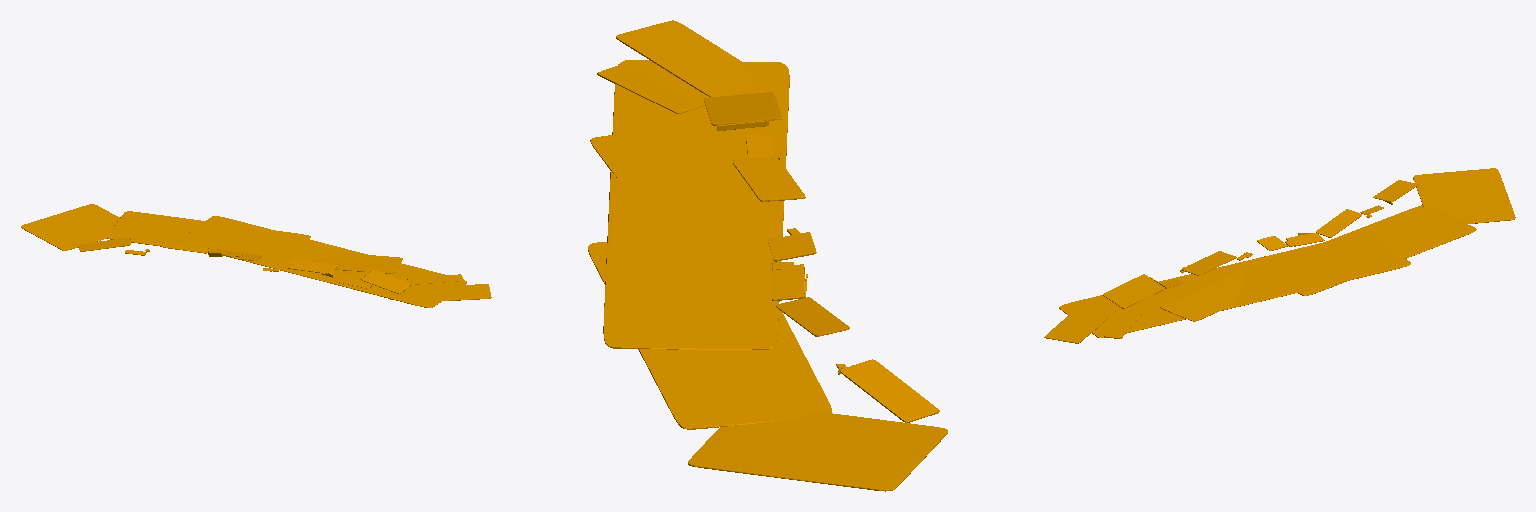
URDF robot description (scene):
<?xml version='1.0' encoding='utf-8'?>
<robot name="scene"><link name="scene_link"><visual><origin xyz="0.000000 0.000000 0.000000" rpy="0.000000 -0.000000 0.000000" /><geometry><mesh filename="part_000.obj" /></geometry></visual><collision><origin xyz="0.000000 0.000000 0.000000" rpy="0.000000 -0.000000 0.000000" /><geometry><mesh filename="part_000.obj" /></geometry></collision><visual><origin xyz="0.000000 0.000000 0.000000" rpy="0.000000 -0.000000 0.000000" /><geometry><mesh filename="part_001.obj" /></geometry></visual><collision><origin xyz="0.000000 0.000000 0.000000" rpy="0.000000 -0.000000 0.000000" /><geometry><mesh filename="part_001.obj" /></geometry></collision><visual><origin xyz="0.000000 0.000000 0.000000" rpy="0.000000 -0.000000 0.000000" /><geometry><mesh filename="part_002.obj" /></geometry></visual><collision><origin xyz="0.000000 0.000000 0.000000" rpy="0.000000 -0.000000 0.000000" /><geometry><mesh filename="part_002.obj" /></geometry></collision><visual><origin xyz="0.000000 0.000000 0.000000" rpy="0.000000 -0.000000 0.000000" /><geometry><mesh filename="part_003.obj" /></geometry></visual><collision><origin xyz="0.000000 0.000000 0.000000" rpy="0.000000 -0.000000 0.000000" /><geometry><mesh filename="part_003.obj" /></geometry></collision><visual><origin xyz="0.000000 0.000000 0.000000" rpy="0.000000 -0.000000 0.000000" /><geometry><mesh filename="part_004.obj" /></geometry></visual><collision><origin xyz="0.000000 0.000000 0.000000" rpy="0.000000 -0.000000 0.000000" /><geometry><mesh filename="part_004.obj" /></geometry></collision><visual><origin xyz="0.000000 0.000000 0.000000" rpy="0.000000 -0.000000 0.000000" /><geometry><mesh filename="part_005.obj" /></geometry></visual><collision><origin xyz="0.000000 0.000000 0.000000" rpy="0.000000 -0.000000 0.000000" /><geometry><mesh filename="part_005.obj" /></geometry></collision><visual><origin xyz="0.000000 0.000000 0.000000" rpy="0.000000 -0.000000 0.000000" /><geometry><mesh filename="part_006.obj" /></geometry></visual><collision><origin xyz="0.000000 0.000000 0.000000" rpy="0.000000 -0.000000 0.000000" /><geometry><mesh filename="part_006.obj" /></geometry></collision><visual><origin xyz="0.000000 0.000000 0.000000" rpy="0.000000 -0.000000 0.000000" /><geometry><mesh filename="part_007.obj" /></geometry></visual><collision><origin xyz="0.000000 0.000000 0.000000" rpy="0.000000 -0.000000 0.000000" /><geometry><mesh filename="part_007.obj" /></geometry></collision><visual><origin xyz="0.000000 0.000000 0.000000" rpy="0.000000 -0.000000 0.000000" /><geometry><mesh filename="part_008.obj" /></geometry></visual><collision><origin xyz="0.000000 0.000000 0.000000" rpy="0.000000 -0.000000 0.000000" /><geometry><mesh filename="part_008.obj" /></geometry></collision><visual><origin xyz="0.000000 0.000000 0.000000" rpy="0.000000 -0.000000 0.000000" /><geometry><mesh filename="part_009.obj" /></geometry></visual><collision><origin xyz="0.000000 0.000000 0.000000" rpy="0.000000 -0.000000 0.000000" /><geometry><mesh filename="part_009.obj" /></geometry></collision><visual><origin xyz="0.000000 0.000000 0.000000" rpy="0.000000 -0.000000 0.000000" /><geometry><mesh filename="part_010.obj" /></geometry></visual><collision><origin xyz="0.000000 0.000000 0.000000" rpy="0.000000 -0.000000 0.000000" /><geometry><mesh filename="part_010.obj" /></geometry></collision><visual><origin xyz="0.000000 0.000000 0.000000" rpy="0.000000 -0.000000 0.000000" /><geometry><mesh filename="part_011.obj" /></geometry></visual><collision><origin xyz="0.000000 0.000000 0.000000" rpy="0.000000 -0.000000 0.000000" /><geometry><mesh filename="part_011.obj" /></geometry></collision><visual><origin xyz="0.000000 0.000000 0.000000" rpy="0.000000 -0.000000 0.000000" /><geometry><mesh filename="part_012.obj" /></geometry></visual><collision><origin xyz="0.000000 0.000000 0.000000" rpy="0.000000 -0.000000 0.000000" /><geometry><mesh filename="part_012.obj" /></geometry></collision><visual><origin xyz="0.000000 0.000000 0.000000" rpy="0.000000 -0.000000 0.000000" /><geometry><mesh filename="part_013.obj" /></geometry></visual><collision><origin xyz="0.000000 0.000000 0.000000" rpy="0.000000 -0.000000 0.000000" /><geometry><mesh filename="part_013.obj" /></geometry></collision><visual><origin xyz="0.000000 0.000000 0.000000" rpy="0.000000 -0.000000 0.000000" /><geometry><mesh filename="part_014.obj" /></geometry></visual><collision><origin xyz="0.000000 0.000000 0.000000" rpy="0.000000 -0.000000 0.000000" /><geometry><mesh filename="part_014.obj" /></geometry></collision><visual><origin xyz="0.000000 0.000000 0.000000" rpy="0.000000 -0.000000 0.000000" /><geometry><mesh filename="part_015.obj" /></geometry></visual><collision><origin xyz="0.000000 0.000000 0.000000" rpy="0.000000 -0.000000 0.000000" /><geometry><mesh filename="part_015.obj" /></geometry></collision><visual><origin xyz="0.000000 0.000000 0.000000" rpy="0.000000 -0.000000 0.000000" /><geometry><mesh filename="part_016.obj" /></geometry></visual><collision><origin xyz="0.000000 0.000000 0.000000" rpy="0.000000 -0.000000 0.000000" /><geometry><mesh filename="part_016.obj" /></geometry></collision><visual><origin xyz="0.000000 0.000000 0.000000" rpy="0.000000 -0.000000 0.000000" /><geometry><mesh filename="part_017.obj" /></geometry></visual><collision><origin xyz="0.000000 0.000000 0.000000" rpy="0.000000 -0.000000 0.000000" /><geometry><mesh filename="part_017.obj" /></geometry></collision><visual><origin xyz="0.000000 0.000000 0.000000" rpy="0.000000 -0.000000 0.000000" /><geometry><mesh filename="part_018.obj" /></geometry></visual><collision><origin xyz="0.000000 0.000000 0.000000" rpy="0.000000 -0.000000 0.000000" /><geometry><mesh filename="part_018.obj" /></geometry></collision><visual><origin xyz="0.000000 0.000000 0.000000" rpy="0.000000 -0.000000 0.000000" /><geometry><mesh filename="part_019.obj" /></geometry></visual><collision><origin xyz="0.000000 0.000000 0.000000" rpy="0.000000 -0.000000 0.000000" /><geometry><mesh filename="part_019.obj" /></geometry></collision><visual><origin xyz="0.000000 0.000000 0.000000" rpy="0.000000 -0.000000 0.000000" /><geometry><mesh filename="part_020.obj" /></geometry></visual><collision><origin xyz="0.000000 0.000000 0.000000" rpy="0.000000 -0.000000 0.000000" /><geometry><mesh filename="part_020.obj" /></geometry></collision><visual><origin xyz="0.000000 0.000000 0.000000" rpy="0.000000 -0.000000 0.000000" /><geometry><mesh filename="part_021.obj" /></geometry></visual><collision><origin xyz="0.000000 0.000000 0.000000" rpy="0.000000 -0.000000 0.000000" /><geometry><mesh filename="part_021.obj" /></geometry></collision><visual><origin xyz="0.000000 0.000000 0.000000" rpy="0.000000 -0.000000 0.000000" /><geometry><mesh filename="part_022.obj" /></geometry></visual><collision><origin xyz="0.000000 0.000000 0.000000" rpy="0.000000 -0.000000 0.000000" /><geometry><mesh filename="part_022.obj" /></geometry></collision><visual><origin xyz="0.000000 0.000000 0.000000" rpy="0.000000 -0.000000 0.000000" /><geometry><mesh filename="part_023.obj" /></geometry></visual><collision><origin xyz="0.000000 0.000000 0.000000" rpy="0.000000 -0.000000 0.000000" /><geometry><mesh filename="part_023.obj" /></geometry></collision><visual><origin xyz="0.000000 0.000000 0.000000" rpy="0.000000 -0.000000 0.000000" /><geometry><mesh filename="part_024.obj" /></geometry></visual><collision><origin xyz="0.000000 0.000000 0.000000" rpy="0.000000 -0.000000 0.000000" /><geometry><mesh filename="part_024.obj" /></geometry></collision><visual><origin xyz="0.000000 0.000000 0.000000" rpy="0.000000 -0.000000 0.000000" /><geometry><mesh filename="part_025.obj" /></geometry></visual><collision><origin xyz="0.000000 0.000000 0.000000" rpy="0.000000 -0.000000 0.000000" /><geometry><mesh filename="part_025.obj" /></geometry></collision><visual><origin xyz="0.000000 0.000000 0.000000" rpy="0.000000 -0.000000 0.000000" /><geometry><mesh filename="part_026.obj" /></geometry></visual><collision><origin xyz="0.000000 0.000000 0.000000" rpy="0.000000 -0.000000 0.000000" /><geometry><mesh filename="part_026.obj" /></geometry></collision></link></robot>

--- Facts derived from the render (not from the file) ---
3 views of the same robot in one strip: view 1: azimuth 30°, elevation 25°; view 2: azimuth 150°, elevation 25°; view 3: azimuth 270°, elevation 25° (orthographic).
Model scene with 1 links and 0 joints (none), rooted at scene_link, posed all joints at 0.
Links seen in each view (by area): view 1: scene_link; view 2: scene_link; view 3: scene_link.
Boxes of the visible links, x1,y1,x2,y2 form: scene_link: (21, 204, 491, 307); scene_link: (588, 20, 947, 491); scene_link: (1044, 168, 1515, 343).
Size in the robot's own frame: 16.75 by 19.34 by 0.6488 metres.
27 mesh visuals loaded from 27 distinct referenced files (27 OBJ).